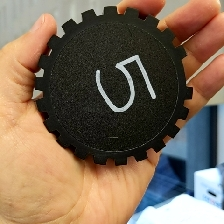gear: (33, 4, 195, 166)
missing: (172, 43, 195, 101)
